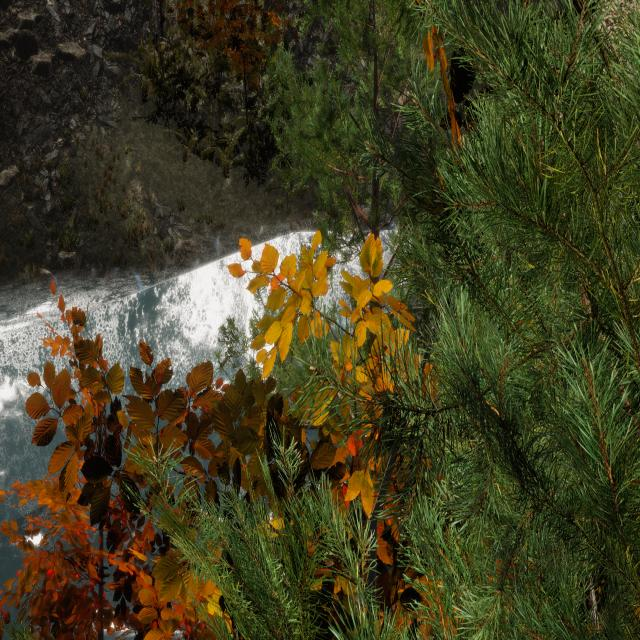Human: (404, 220, 434, 350)
